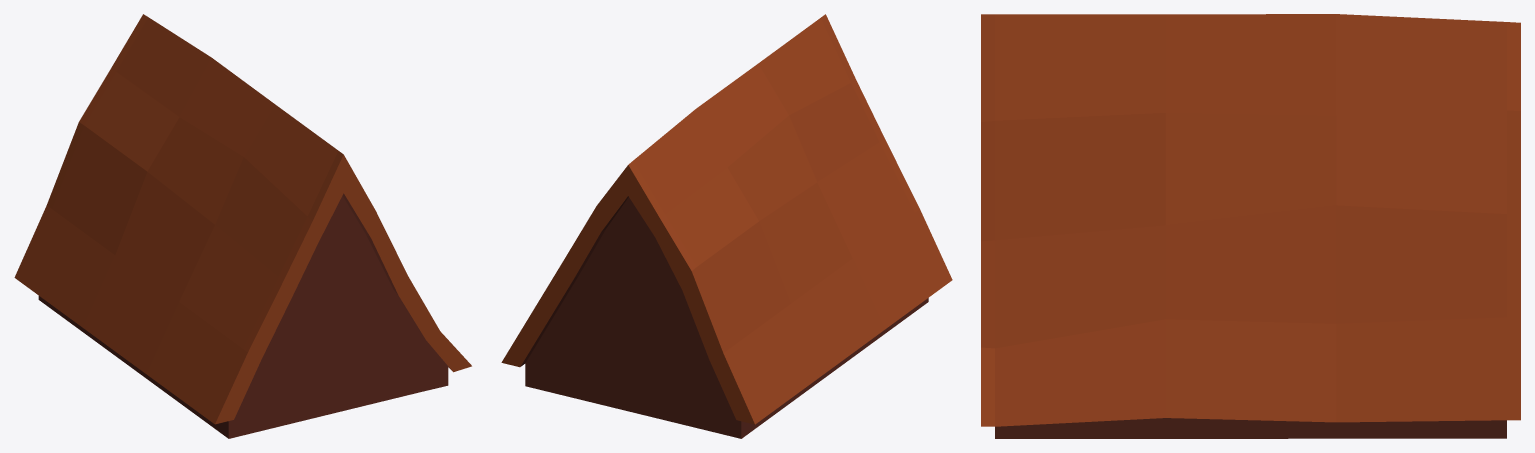
File: medrect_top_2.glb
3 views of the same model, side by side, from view 1: azimuth 30°, elevation 25°; view 2: azimuth 150°, elevation 25°; view 3: azimuth 270°, elevation 25° (orthographic). The views are drawn at different scales.
Visible parts, largest first — view 1: medrect_top_2; view 2: medrect_top_2; view 3: medrect_top_2.
Part boxes in pixels (x1=…): medrect_top_2: x1=14, y1=14, x2=471, y2=438; medrect_top_2: x1=501, y1=14, x2=952, y2=438; medrect_top_2: x1=981, y1=14, x2=1520, y2=438.
Bounding box in the file's own units: 5.87 × 5.7 × 7.91.
